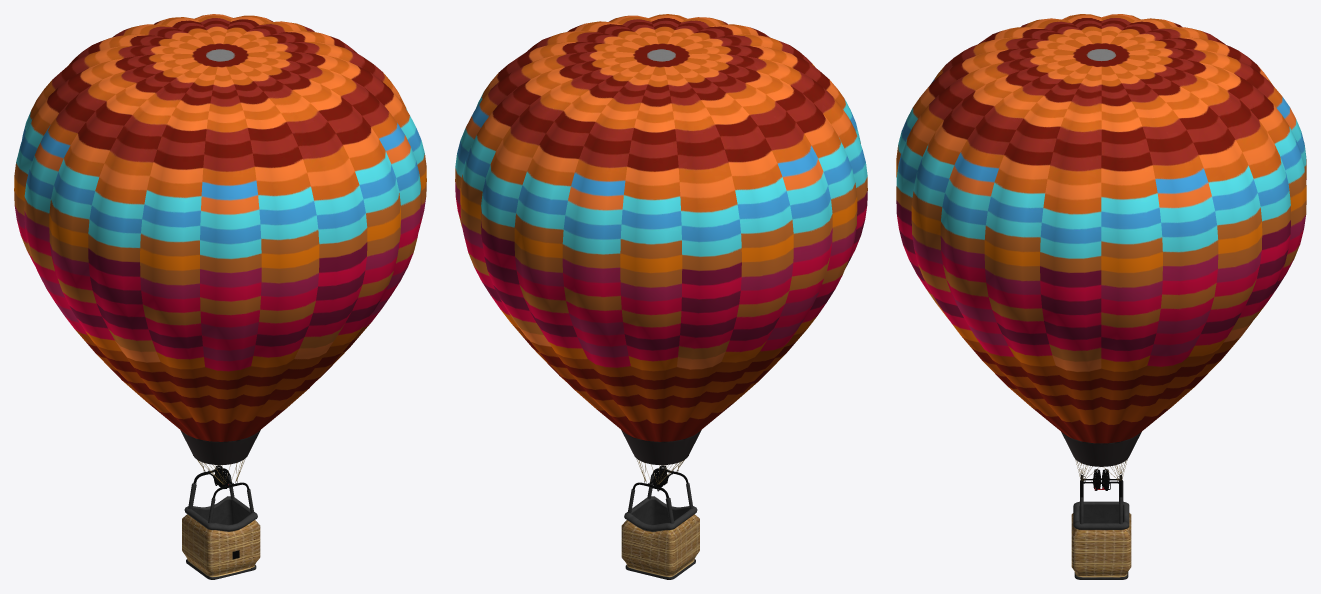
File: Hot air balloon.glb
3 views of the same model, side by side, from view 1: azimuth 30°, elevation 25°; view 2: azimuth 150°, elevation 25°; view 3: azimuth 270°, elevation 25° (orthographic).
Parts seen in each view (by area): view 1: hot_air_balloon.1; view 2: hot_air_balloon.1; view 3: hot_air_balloon.1.
Boxes of the visible parts, box(x1,y1,x2,y2) form: hot_air_balloon.1: box(14, 14, 426, 579); hot_air_balloon.1: box(455, 14, 867, 579); hot_air_balloon.1: box(896, 14, 1306, 579).
Size of the model in its own units: 0.2015 by 0.2781 by 0.2015.
1 material, 1 textured.
